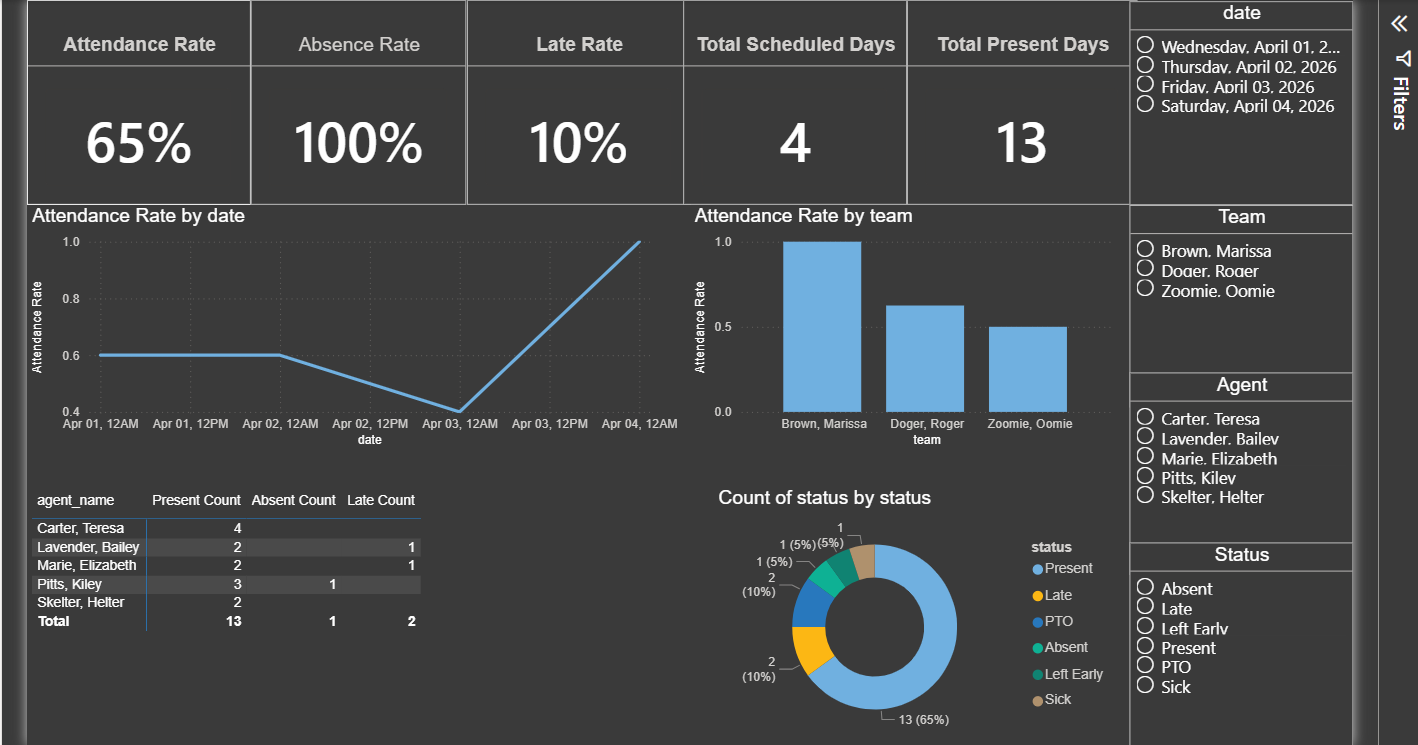

The page's visual inventory and layout, read from the dashboard file:
{"tool":"powerbi","page":{"name":"Attendance","canvas":[1280,720],"ordinal":2},"visuals":[{"type":"cardVisual","title":"    ","fields":{"Data":["Attendance.Attendance Rate"]},"box":[0,0,215.9,197.4],"z":0},{"type":"cardVisual","title":"   ","fields":{"Data":["Attendance.Absence Rate"]},"box":[215.9,0,208.1,197.4],"z":1000},{"type":"cardVisual","title":"   ","fields":{"Data":["Attendance.Late Rate"]},"box":[424.1,0,215.9,197.4],"z":2000},{"type":"cardVisual","title":"   ","fields":{"Data":["Count(Attendance.date)"]},"box":[633.2,0,215.9,197.4],"z":3000},{"type":"cardVisual","title":"   ","fields":{"Data":["Attendance.Total Present Days"]},"box":[849.1,0,222.7,197.4],"z":4000},{"type":"lineChart","fields":{"Y":["Attendance.Attendance Rate"],"Category":["Attendance.date"]},"box":[0,197.4,633.2,238.3],"z":5000},{"type":"clusteredColumnChart","fields":{"Category":["Attendance.team"],"Y":["Attendance.Attendance Rate"]},"box":[640,197.4,413.4,238.3],"z":6000},{"type":"pivotTable","fields":{"Rows":["Attendance.agent_name"],"Values":["Attendance.Present Count","Attendance.Absent Count","Attendance.Late Count"]},"box":[0,469.8,633.2,250],"z":7000},{"type":"donutChart","fields":{"Category":["Attendance.status"],"Y":["CountNonNull(Attendance.status)"]},"box":[662.4,469.8,391,250],"z":8000},{"type":"listSlicer","fields":{"Values":["Attendance.date.Variation.Date Hierarchy.Quarter"]},"box":[1064.1,1,215.9,196.5],"z":9000},{"type":"listSlicer","title":"Team","fields":{"Values":["Attendance.team"]},"box":[1064.1,197.4,215.9,195.5],"z":10000},{"type":"listSlicer","title":"Agent","fields":{"Values":["Attendance.agent_name"]},"box":[1064.1,359.9,215.9,195.5],"z":11000},{"type":"listSlicer","title":"Status","fields":{"Values":["Attendance.status"]},"box":[1064.1,523.3,215.9,196.5],"z":12000}]}

Visuals, with their boxes on the page's 1280x720 design canvas (x1, y1, x2, y2). These are canvas units, not pixel positions in the 1418x745 screenshot, which may show the page scaled, cropped or inside an application window:
"    " cardVisual: detection(0, 0, 216, 197)
"   " cardVisual: detection(216, 0, 424, 197)
"   " cardVisual: detection(424, 0, 640, 197)
"   " cardVisual: detection(633, 0, 849, 197)
"   " cardVisual: detection(849, 0, 1072, 197)
lineChart - Attendance.Attendance Rate x Attendance.date: detection(0, 197, 633, 436)
clusteredColumnChart - Attendance.team x Attendance.Attendance Rate: detection(640, 197, 1053, 436)
pivotTable - Attendance.agent_name x Attendance.Present Count: detection(0, 470, 633, 720)
donutChart - Attendance.status x CountNonNull(Attendance.status): detection(662, 470, 1053, 720)
listSlicer - Attendance.date.Variation.Date Hierarchy.Quarter: detection(1064, 1, 1280, 198)
"Team" listSlicer: detection(1064, 197, 1280, 393)
"Agent" listSlicer: detection(1064, 360, 1280, 555)
"Status" listSlicer: detection(1064, 523, 1280, 720)
